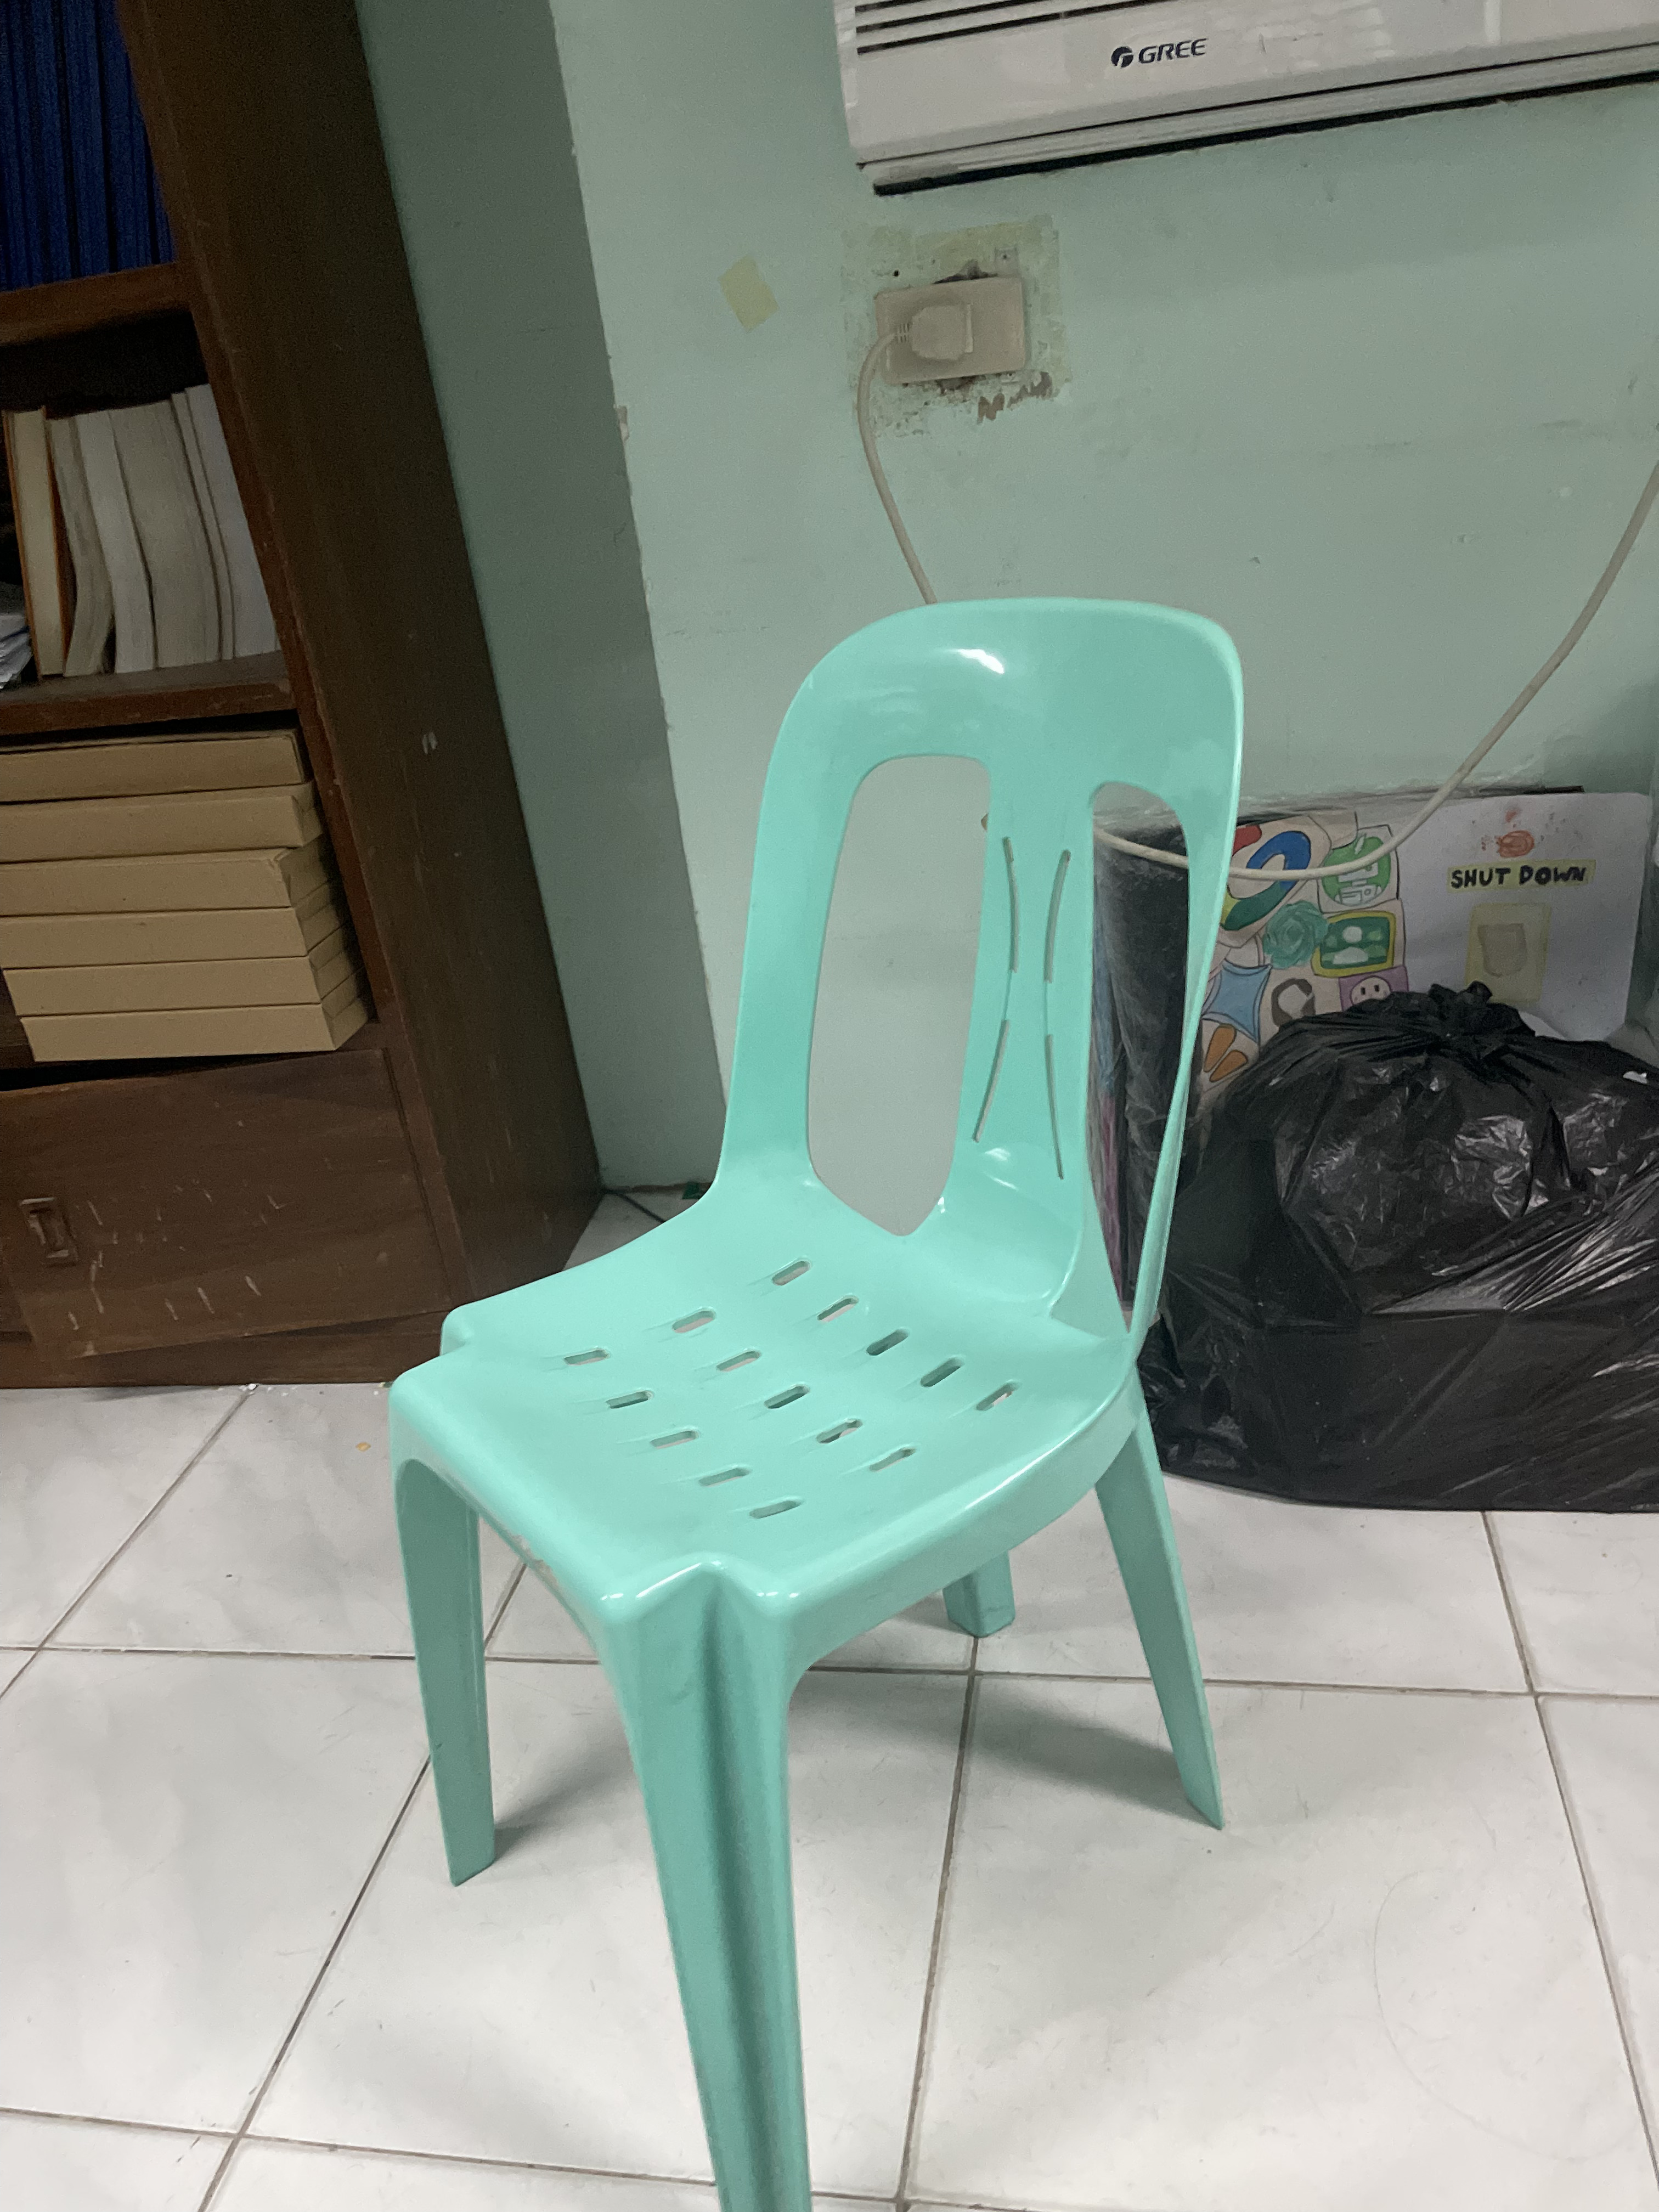chair2: (378, 592, 1263, 2212)
